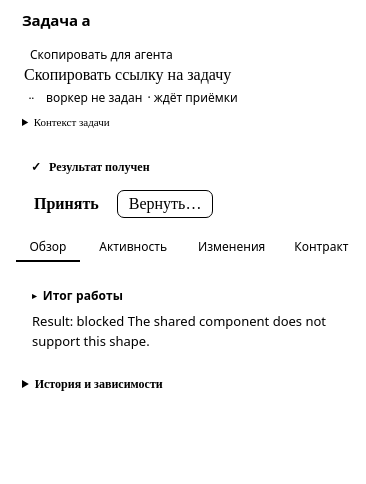
Test: previews a worker report during review and opens the full evidence on request
Check: the text "Evidence" is not shown
Click the button "▸ Итог работы": (78, 296) [32, 287, 123, 305]
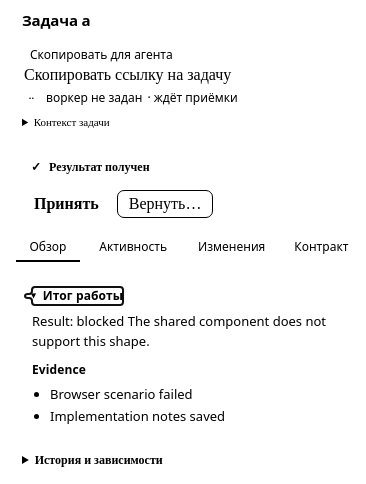
Check: the button "▸ Итог работы" is expanded, box [32, 287, 123, 305]
Check: the text "Evidence" is shown, box [32, 361, 86, 378]
